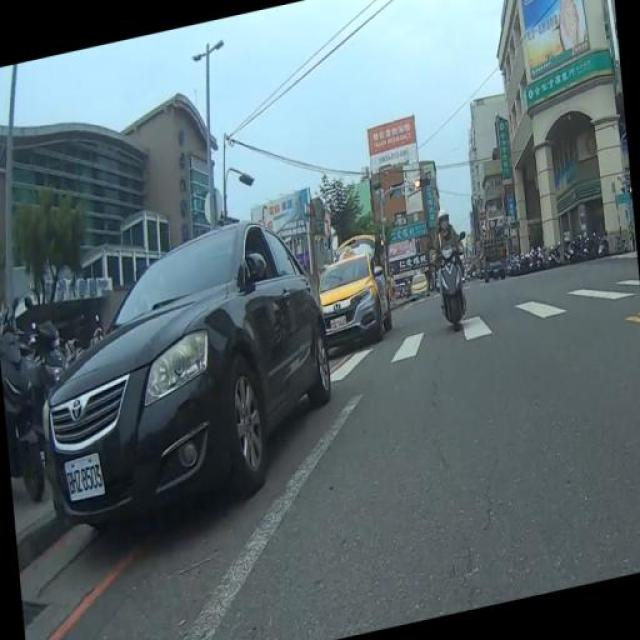illegalparking: (29, 203, 386, 558)
